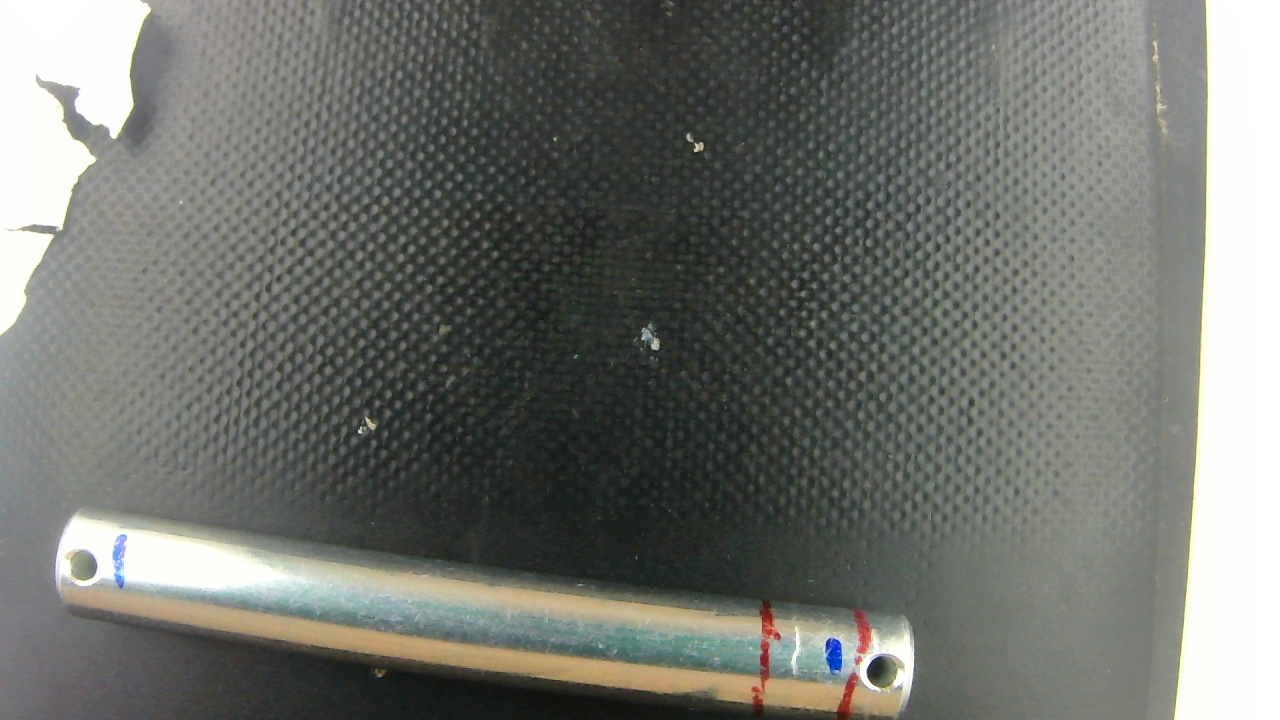odlinemark_pin: (785, 612, 815, 686)
